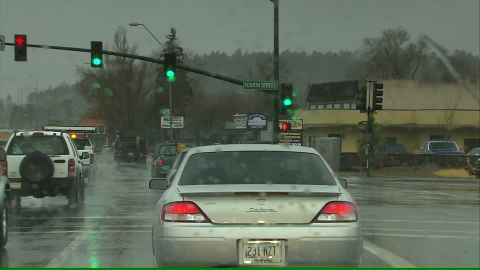car: (148, 141, 365, 268), (2, 129, 86, 206), (151, 141, 188, 178), (114, 132, 147, 168), (72, 138, 95, 184)
